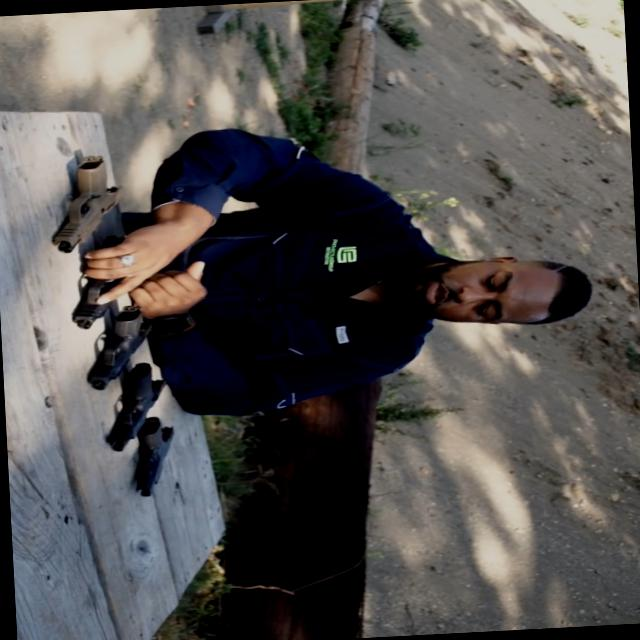handgun: (46, 232, 158, 331), (62, 301, 175, 398), (49, 146, 149, 255), (86, 361, 174, 465), (119, 408, 186, 504)
